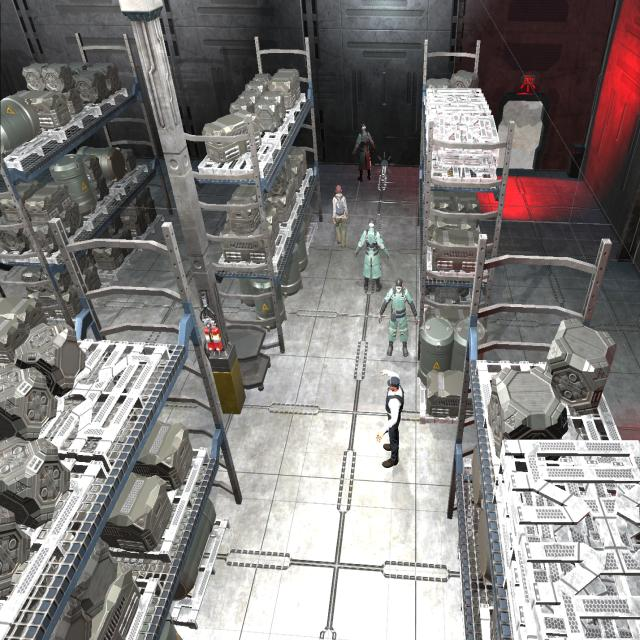thiefs: (331, 183, 349, 249)
